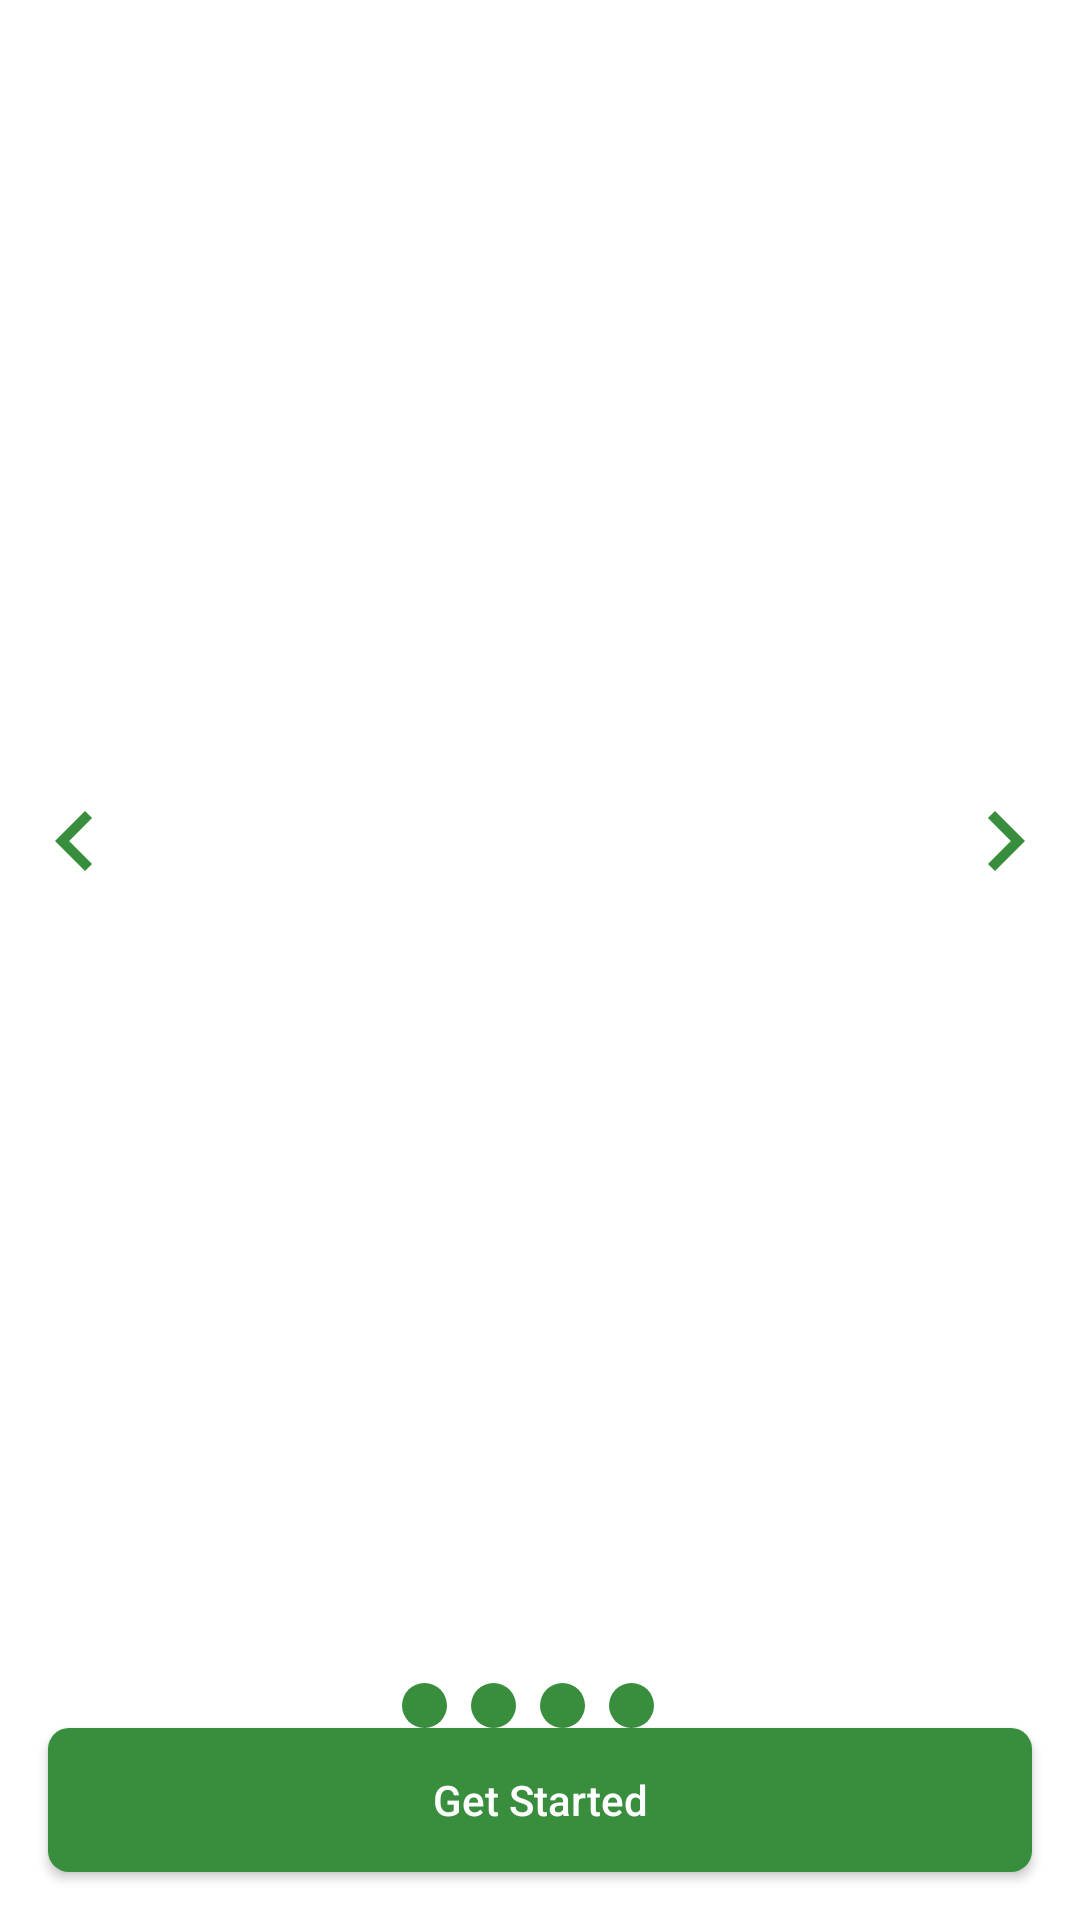

Locate icon controls on the screen. Image size 1080 × 1920, boxes as (x1, y1, x2, y2).
back: (55, 811, 92, 871)
next: (988, 811, 1025, 871)
